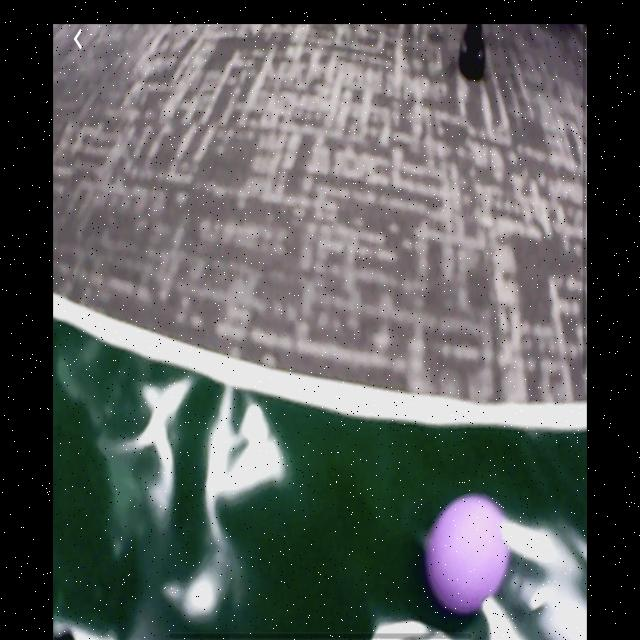ball: (427, 493, 508, 612)
